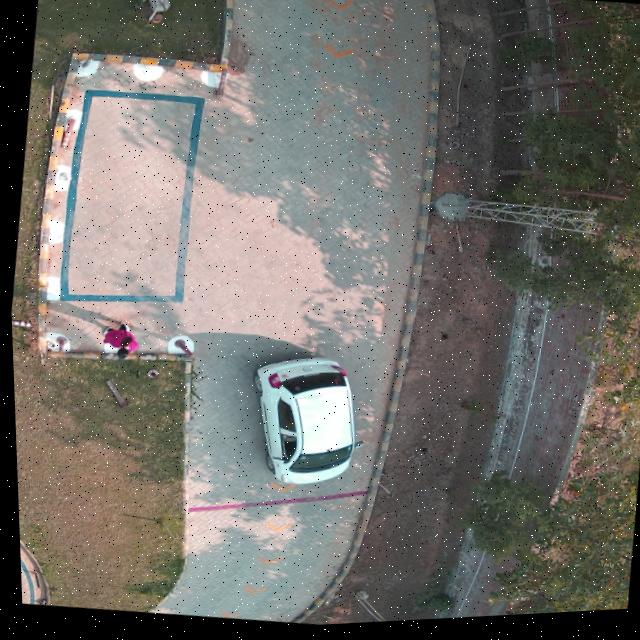car: (251, 361, 350, 487)
